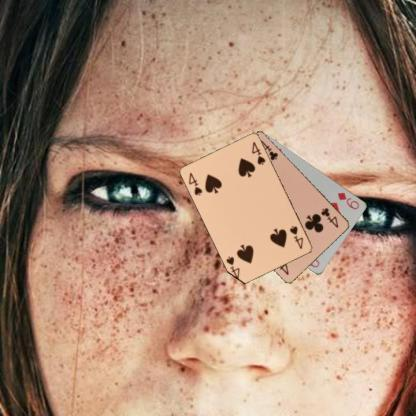4c: (318, 204, 340, 230)
4s: (287, 223, 305, 250), (186, 170, 204, 197)
9d: (335, 190, 361, 210)
